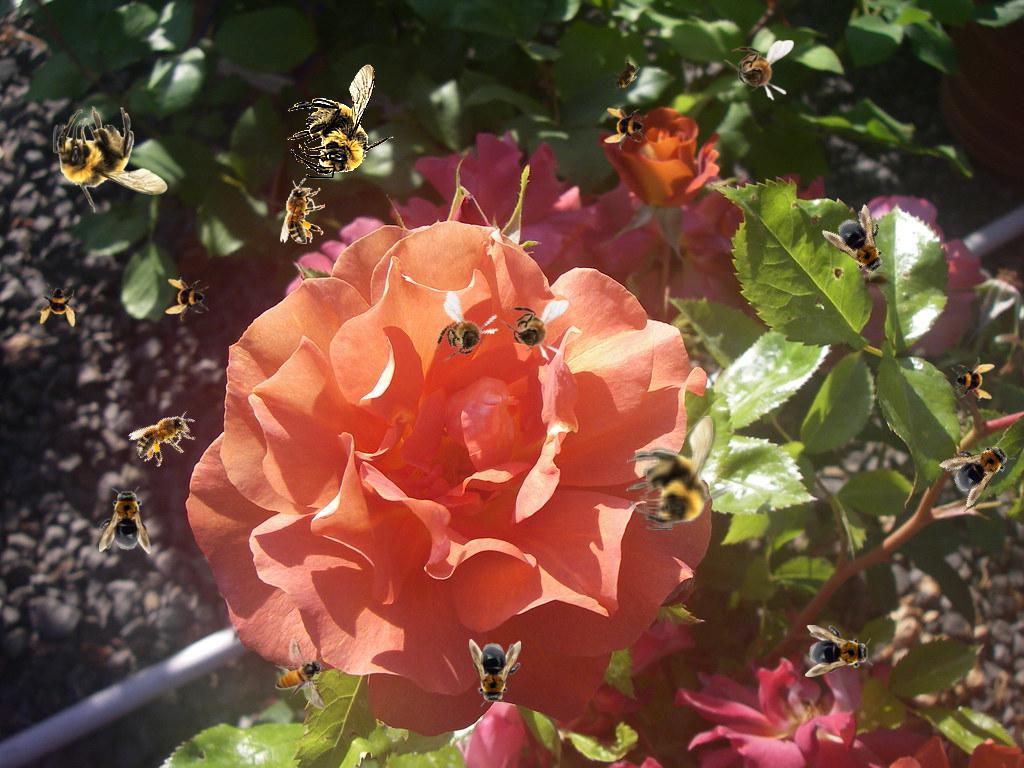Bee: (53, 106, 168, 213), (287, 64, 394, 179), (626, 415, 733, 530), (424, 289, 507, 377), (937, 425, 1023, 509), (821, 202, 903, 288), (126, 399, 206, 474), (499, 300, 569, 361), (724, 40, 794, 101), (275, 638, 325, 709), (469, 639, 521, 707), (99, 486, 151, 554), (805, 625, 873, 677), (280, 178, 325, 244), (603, 53, 647, 99), (951, 357, 995, 401), (165, 277, 209, 321), (38, 283, 82, 327), (604, 106, 648, 150), (856, 270, 896, 292)
